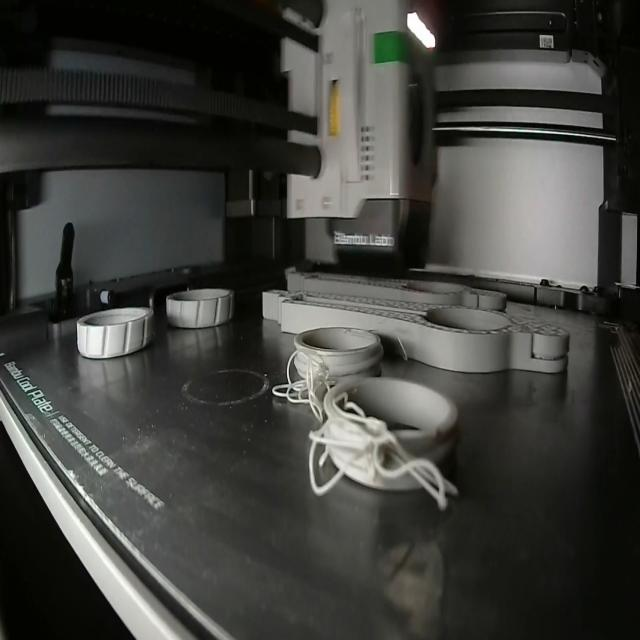spaghetti: (270, 342, 468, 524)
